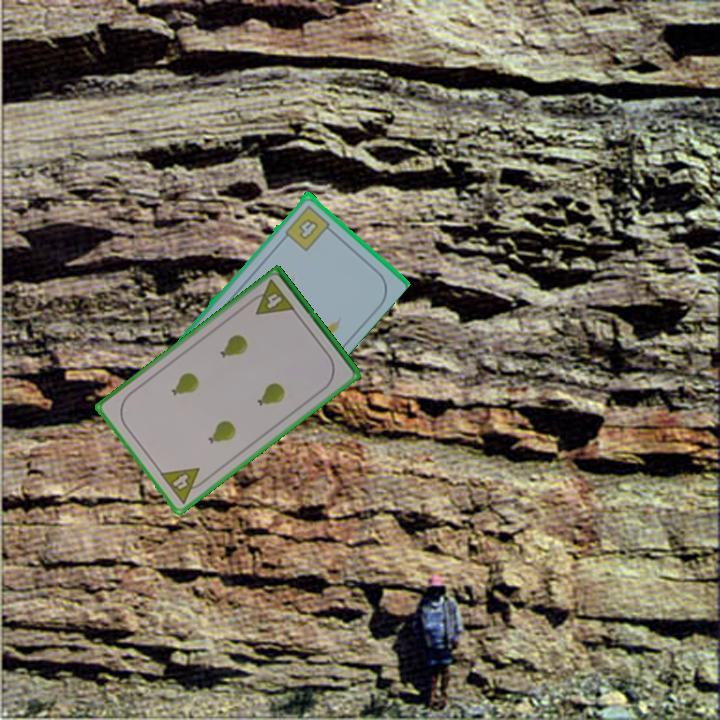4b: (282, 201, 336, 253)
4p: (156, 464, 210, 507), (245, 276, 298, 318)
